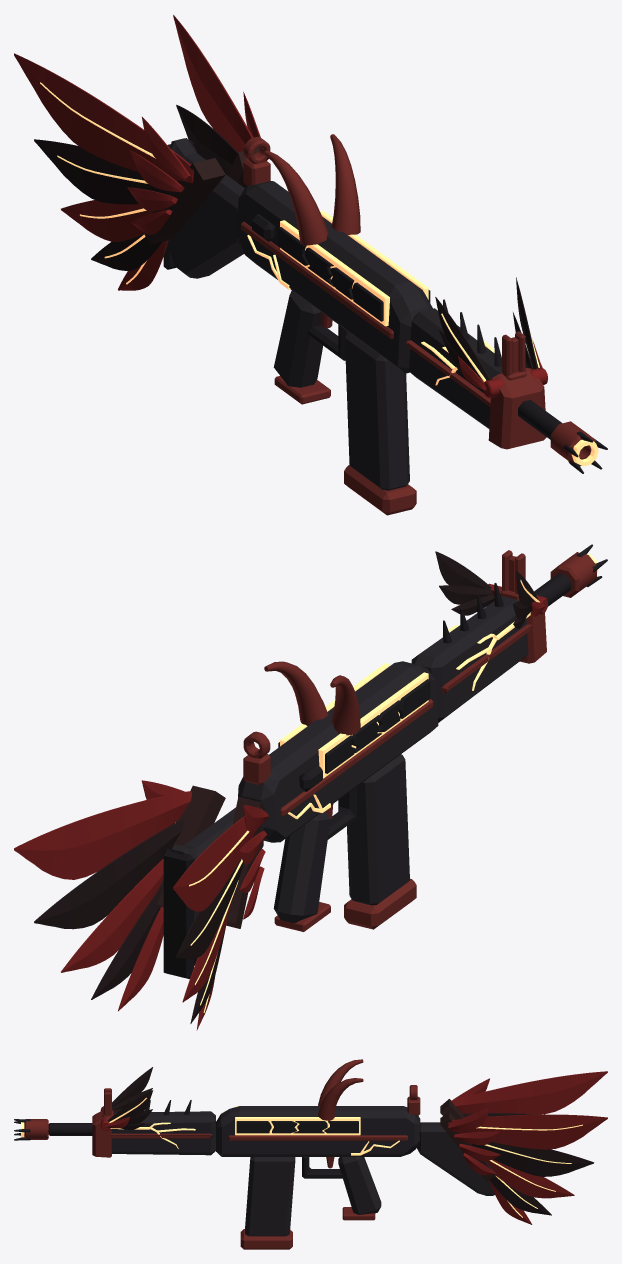
Rendered from w_ar@ar_infernal.glb.
3 views of the same model, one above another, from view 1: azimuth 30°, elevation 25°; view 2: azimuth 150°, elevation 25°; view 3: azimuth 270°, elevation 25° (orthographic). The views are drawn at different scales.
Parts seen in each view (by area): view 1: stock_wzN__feat2__p7a1a1a, body_wzA__shell__p232025, mag_wzA__shell__p232025, stock_wzN__feat__p1e1416, stock_wzA__shell__p232025, crown_wzN__horn__p6b2420, guard_wzA__shell__p232025, guard_wzN__gold__p6b2420, stock_wzN__cov__p7a1a1a, grip_wzA__shell__p232025, stock_wzN__bone__p2c1a1a, body_wzN__glow__nff8a5a (+11 smaller); view 2: stock_wzN__feat2__p7a1a1a, body_wzA__shell__p232025, stock_wzN__feat__p1e1416, mag_wzA__shell__p232025, guard_wzA__shell__p232025, grip_wzA__shell__p232025, crown_wzN__horn__p6b2420, stock_wzB__dark__p151316, stock_wzN__bone__p2c1a1a, guard_wzN__feat__p1e1416, body_wzN__trim__p18161a, stock_wzN__cov__p7a1a1a (+11 smaller); view 3: stock_wzN__feat2__p7a1a1a, body_wzA__shell__p232025, mag_wzA__shell__p232025, guard_wzA__shell__p232025, stock_wzN__feat__p1e1416, stock_wzA__shell__p232025, stock_wzN__cov__p7a1a1a, grip_wzA__shell__p232025, body_wzN__trim__p18161a, guard_wzN__feat__p1e1416, guard_wzN__gold__p6b2420, body_wzN__glow__nff8a5a (+12 smaller).
Boxes of the visible parts, x1,y1,x2,y2 form: stock_wzN__feat2__p7a1a1a: (14,15,252,290); body_wzA__shell__p232025: (236,181,432,373); mag_wzA__shell__p232025: (345,332,409,490); stock_wzN__feat__p1e1416: (34,104,237,270); stock_wzA__shell__p232025: (168,138,244,278); crown_wzN__horn__p6b2420: (264,134,360,245); guard_wzA__shell__p232025: (409,308,501,428); guard_wzN__gold__p6b2420: (405,340,546,449); stock_wzN__cov__p7a1a1a: (127,92,268,234); grip_wzA__shell__p232025: (273,290,322,387); stock_wzN__bone__p2c1a1a: (143,147,259,244); body_wzN__glow__nff8a5a: (247,211,428,326); stock_wzN__feat2__p7a1a1a: (14,791,261,1030); body_wzA__shell__p232025: (238,661,438,842); stock_wzN__feat__p1e1416: (34,819,243,1023); mag_wzA__shell__p232025: (347,754,409,905); guard_wzA__shell__p232025: (411,596,528,722); grip_wzA__shell__p232025: (273,811,330,923); crown_wzN__horn__p6b2420: (264,661,360,735); stock_wzB__dark__p151316: (163,849,193,978); stock_wzN__bone__p2c1a1a: (157,785,265,928); guard_wzN__feat__p1e1416: (435,551,538,628); body_wzN__trim__p18161a: (278,679,430,773); stock_wzN__cov__p7a1a1a: (141,780,268,919); stock_wzN__feat2__p7a1a1a: (448,1071,607,1224); body_wzA__shell__p232025: (216,1106,420,1156); mag_wzA__shell__p232025: (245,1157,295,1236); guard_wzA__shell__p232025: (111,1111,215,1155); stock_wzN__feat__p1e1416: (462,1113,594,1215); stock_wzA__shell__p232025: (416,1122,494,1195); stock_wzN__cov__p7a1a1a: (448,1078,500,1175); grip_wzA__shell__p232025: (338,1157,381,1214); body_wzN__trim__p18161a: (236,1121,358,1133); guard_wzN__feat__p1e1416: (107,1067,153,1129); guard_wzN__gold__p6b2420: (92,1111,211,1157); body_wzN__glow__nff8a5a: (235,1106,399,1155).
Bounding box in the file's own units: 0.2685 × 0.4777 × 1.45.
